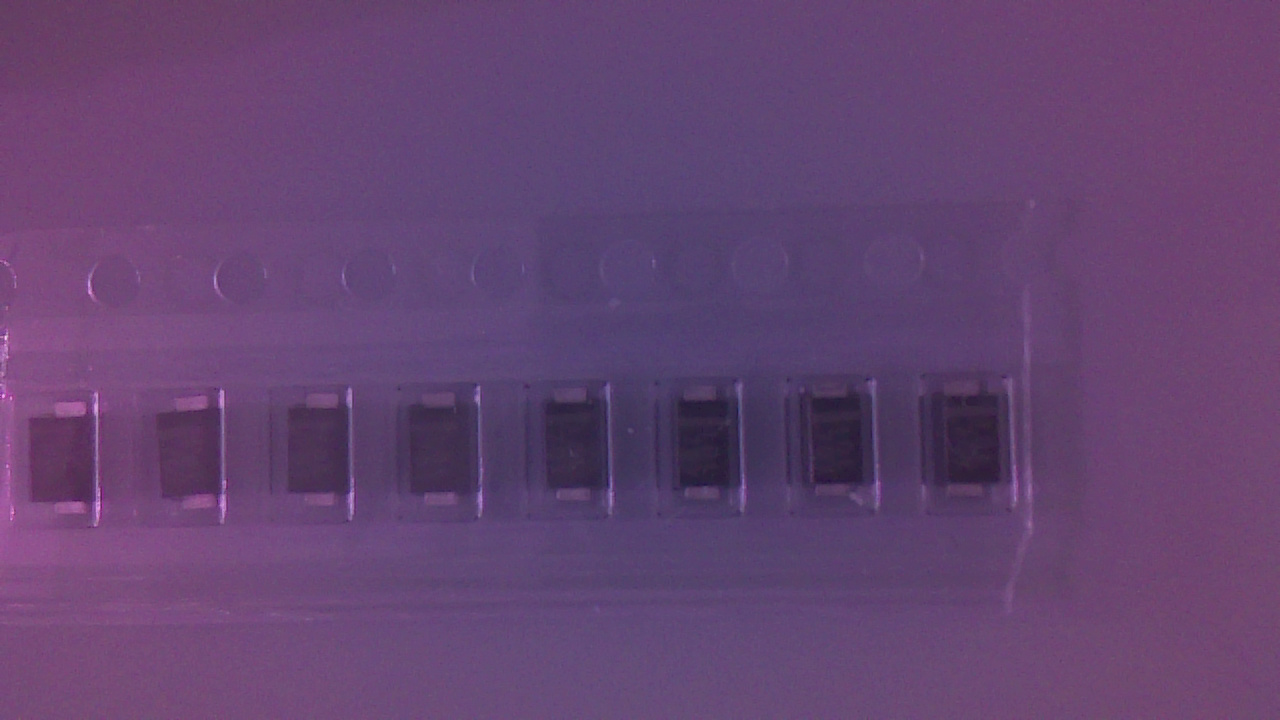Diode: (931, 380, 1004, 510), (804, 379, 867, 510), (155, 394, 223, 512), (672, 384, 733, 508), (33, 405, 100, 517), (289, 392, 352, 510), (542, 386, 601, 508), (408, 394, 463, 509)
